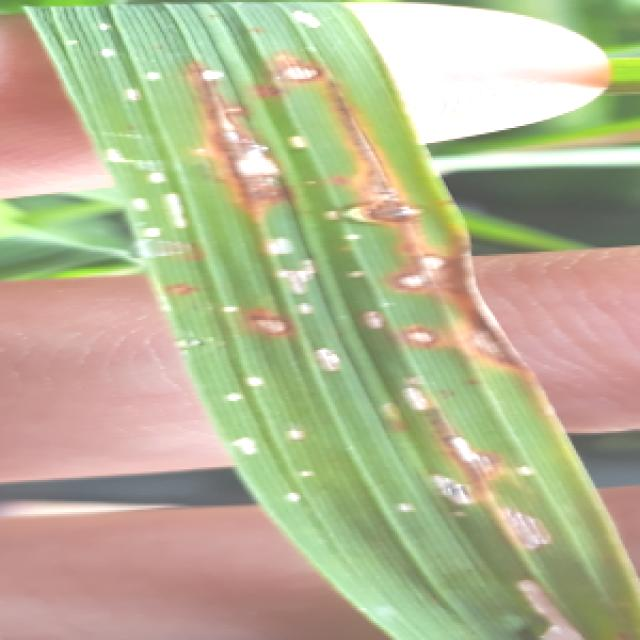Brown_Spot: (180, 59, 392, 360)
